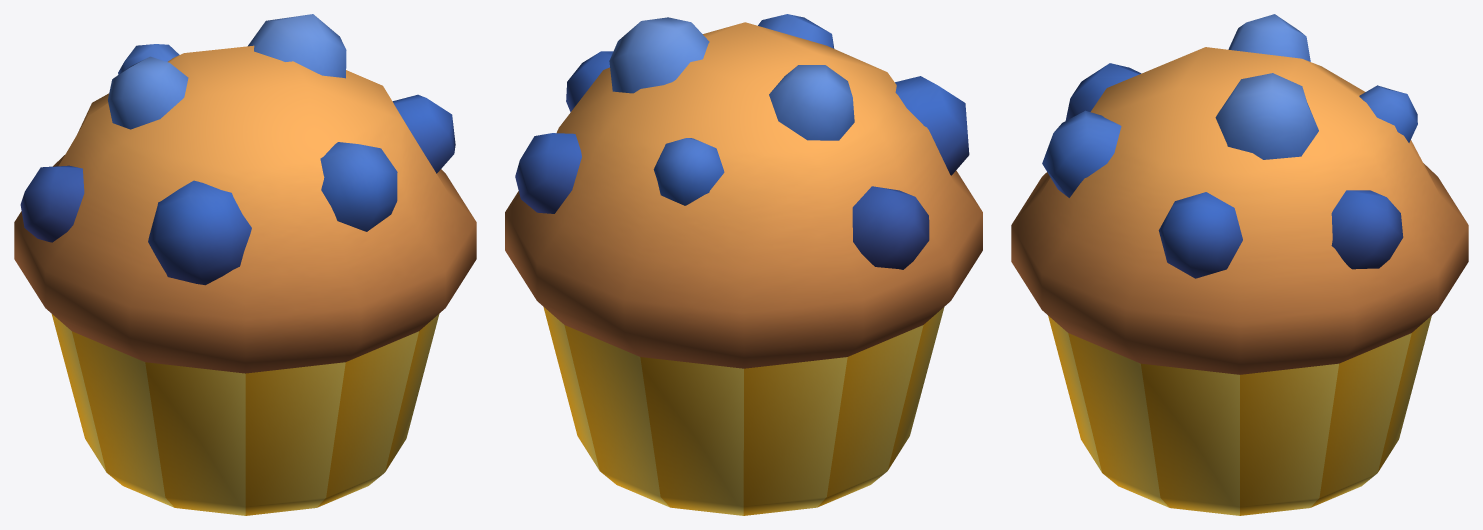
File: m_Cupcake04.fbx
3 renders of one model, left to right at view 1: azimuth 30°, elevation 25°; view 2: azimuth 150°, elevation 25°; view 3: azimuth 270°, elevation 25°, orthographic. The views are drawn at different scales.
Visible parts, largest first — view 1: m_Cupcake04; view 2: m_Cupcake04; view 3: m_Cupcake04.
Boxes of the visible parts, x1,y1,x2,y2 form: m_Cupcake04: [14, 14, 476, 515]; m_Cupcake04: [505, 14, 982, 515]; m_Cupcake04: [1011, 14, 1468, 515].
Bounding box in the file's own units: 11.39 × 11.17 × 11.39.
